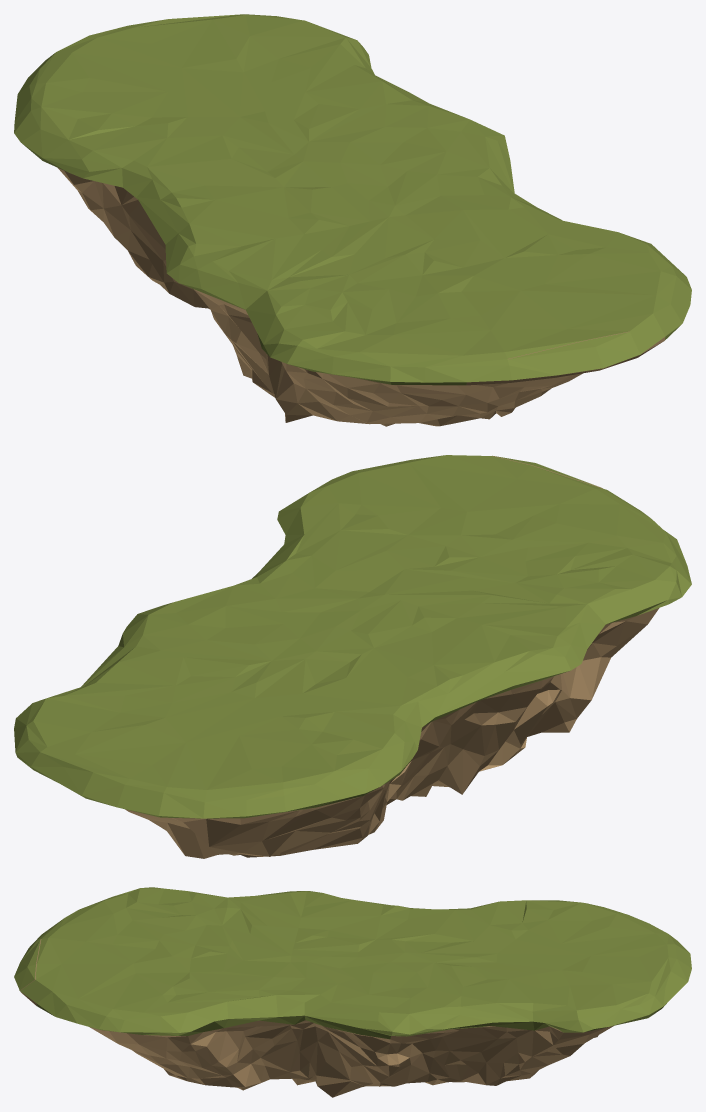
Rendered from bigislandgreen.fbx.
The picture shows the model from 3 angles, top to bottom: view 1: azimuth 30°, elevation 25°; view 2: azimuth 150°, elevation 25°; view 3: azimuth 270°, elevation 25°; orthographic projection. The views are drawn at different scales.
Parts seen in each view (by area): view 1: polySurface2; view 2: polySurface2; view 3: polySurface2.
Part boxes in pixels (x1=…): polySurface2: x1=14, y1=14, x2=691, y2=426; polySurface2: x1=14, y1=455, x2=691, y2=858; polySurface2: x1=14, y1=887, x2=691, y2=1097.
Bounding box in the file's own units: 2172 × 881 × 4390.
